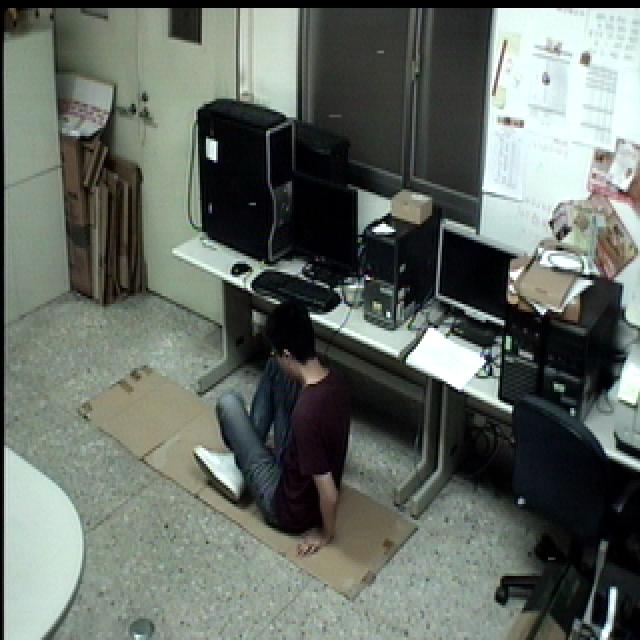sit: (190, 296, 354, 559)
